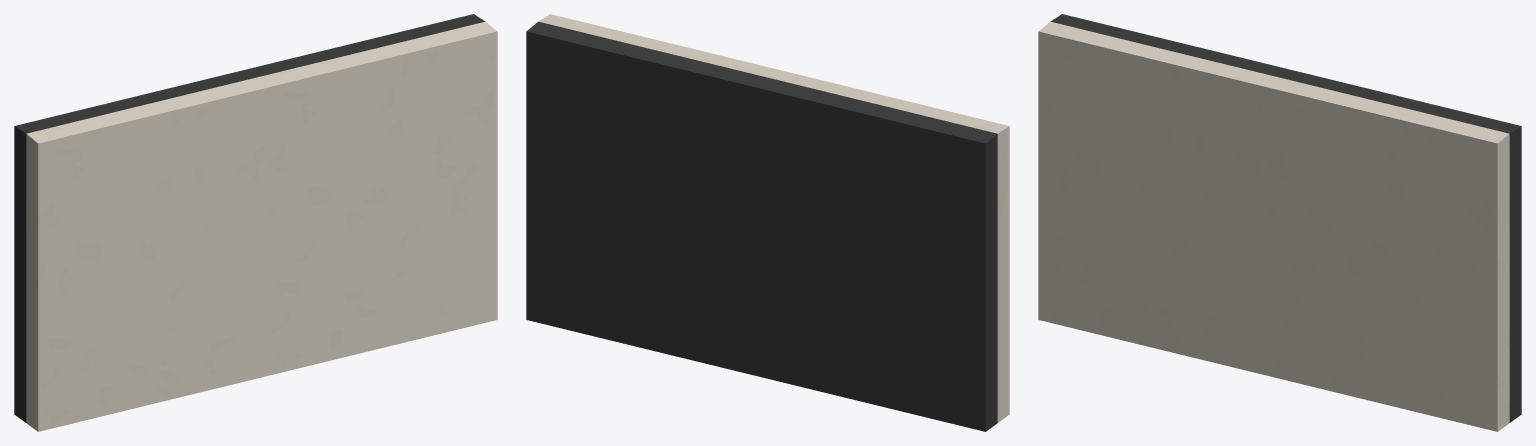
The model's file is SM_Bld_Base_Wall_Half_01_262.obj.
The picture shows the model from 3 angles, left to right: view 1: azimuth 30°, elevation 25°; view 2: azimuth 150°, elevation 25°; view 3: azimuth 330°, elevation 25°; orthographic projection.
Visible parts, largest first — view 1: SM_Bld_Base_Wall_Half_01_1, SM_Bld_Base_Wall_Half_01_0; view 2: SM_Bld_Base_Wall_Half_01_0, SM_Bld_Base_Wall_Half_01_1; view 3: SM_Bld_Base_Wall_Half_01_1, SM_Bld_Base_Wall_Half_01_0.
Boxes of the visible parts, x1=… form: SM_Bld_Base_Wall_Half_01_1: x1=26, y1=21, x2=497, y2=431; SM_Bld_Base_Wall_Half_01_0: x1=14, y1=14, x2=484, y2=422; SM_Bld_Base_Wall_Half_01_0: x1=526, y1=21, x2=997, y2=431; SM_Bld_Base_Wall_Half_01_1: x1=539, y1=14, x2=1009, y2=422; SM_Bld_Base_Wall_Half_01_1: x1=1038, y1=21, x2=1509, y2=431; SM_Bld_Base_Wall_Half_01_0: x1=1051, y1=14, x2=1521, y2=422.
Bounding box in the file's own units: 2.5 × 1.51 × 0.225.
2 materials, 1 textured.
